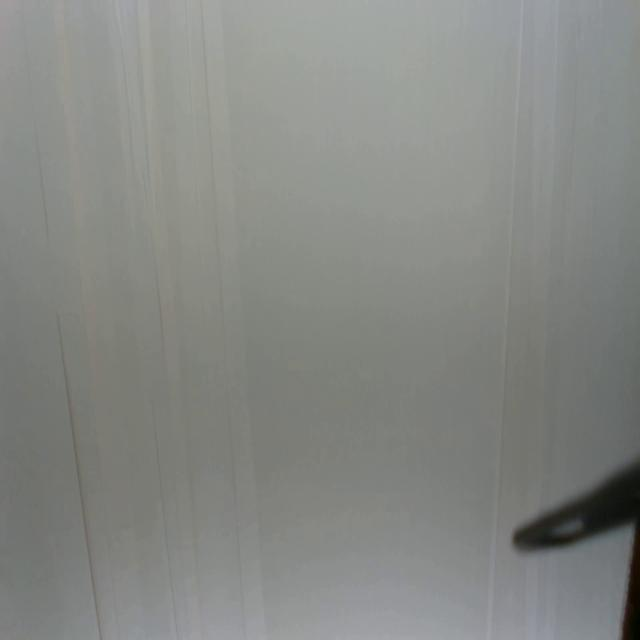crease: (20, 0, 101, 640), (199, 0, 246, 640), (486, 0, 523, 639), (150, 416, 180, 640), (142, 178, 170, 379), (184, 0, 204, 266), (112, 0, 135, 171), (134, 0, 153, 174)
